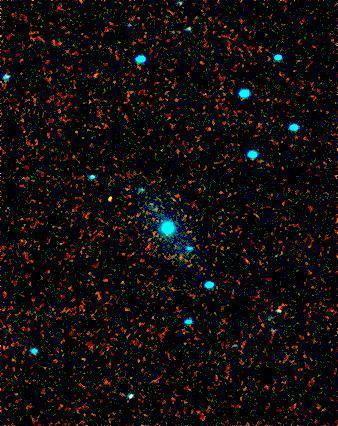star: (95, 183, 125, 213)
